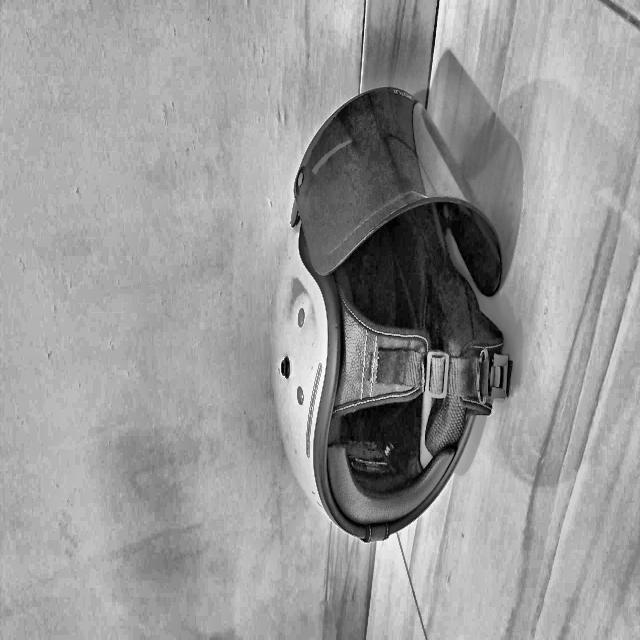Helmet: (32, 441, 335, 640)
